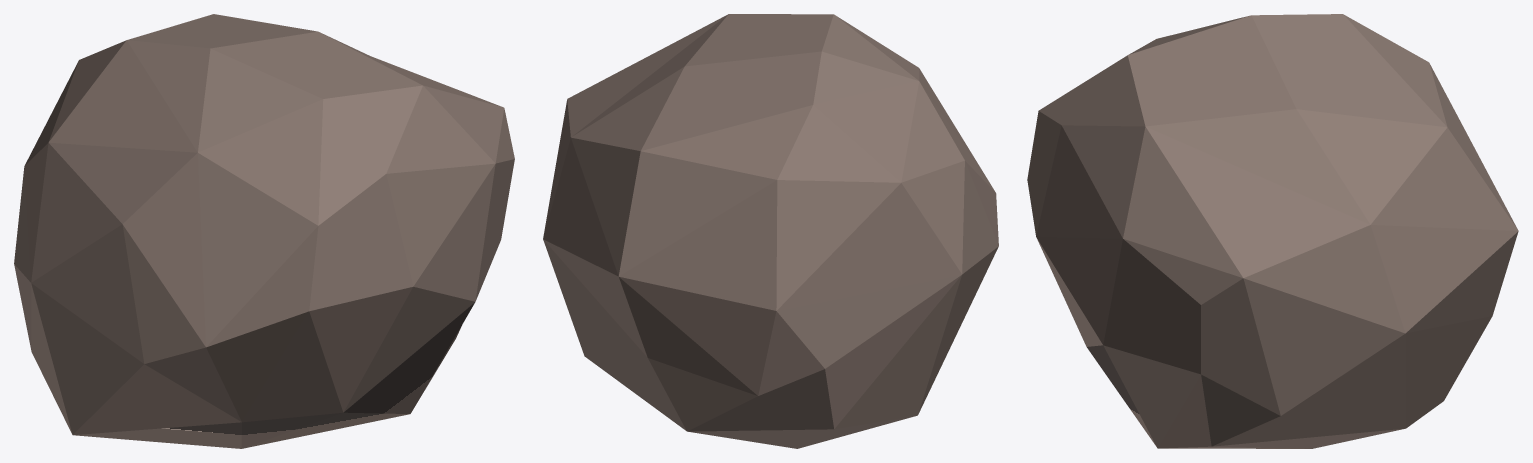
Rendered from Rock collider.FBX.
The picture shows the model from 3 angles, left to right: view 1: azimuth 30°, elevation 25°; view 2: azimuth 150°, elevation 25°; view 3: azimuth 270°, elevation 25°; orthographic projection. The views are drawn at different scales.
Visible parts, largest first — view 1: Box005; view 2: Box005; view 3: Box005.
Boxes of the visible parts, left/top/right/bottom form: Box005: left=14, top=14, right=514, bottom=448; Box005: left=543, top=14, right=998, bottom=448; Box005: left=1027, top=14, right=1518, bottom=448.
Size of the model in its own units: 45.02 by 36.83 by 42.64.
